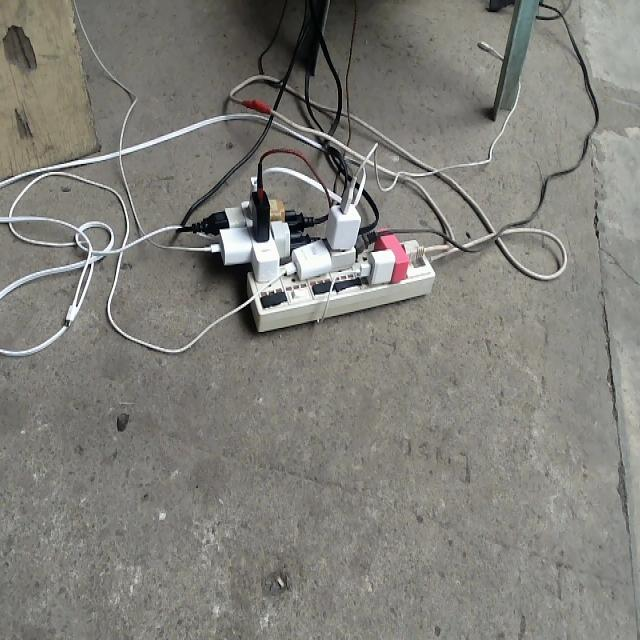-: (187, 155, 436, 333)
